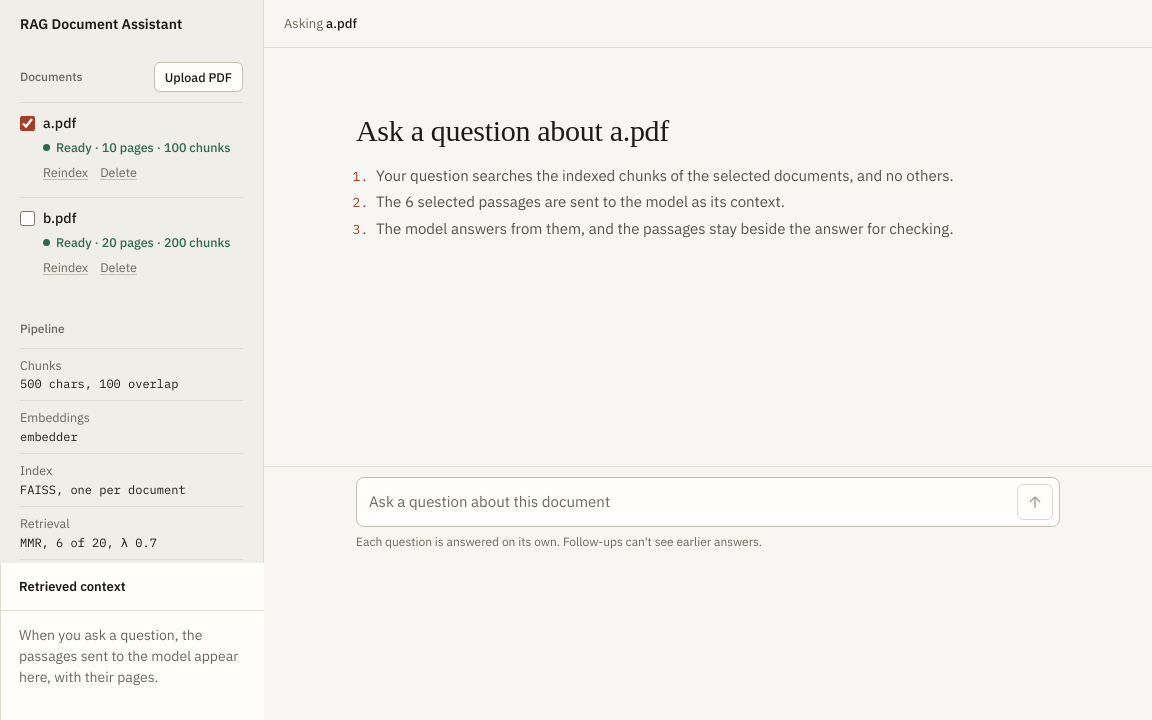
Test case: selection › blocks asking when nothing is selected, instead of searching everything
This screenshot has width=1152, height=720.
Click the checkbox labelled "a.pdf".
click(28, 124)  # box [20,116,35,131]
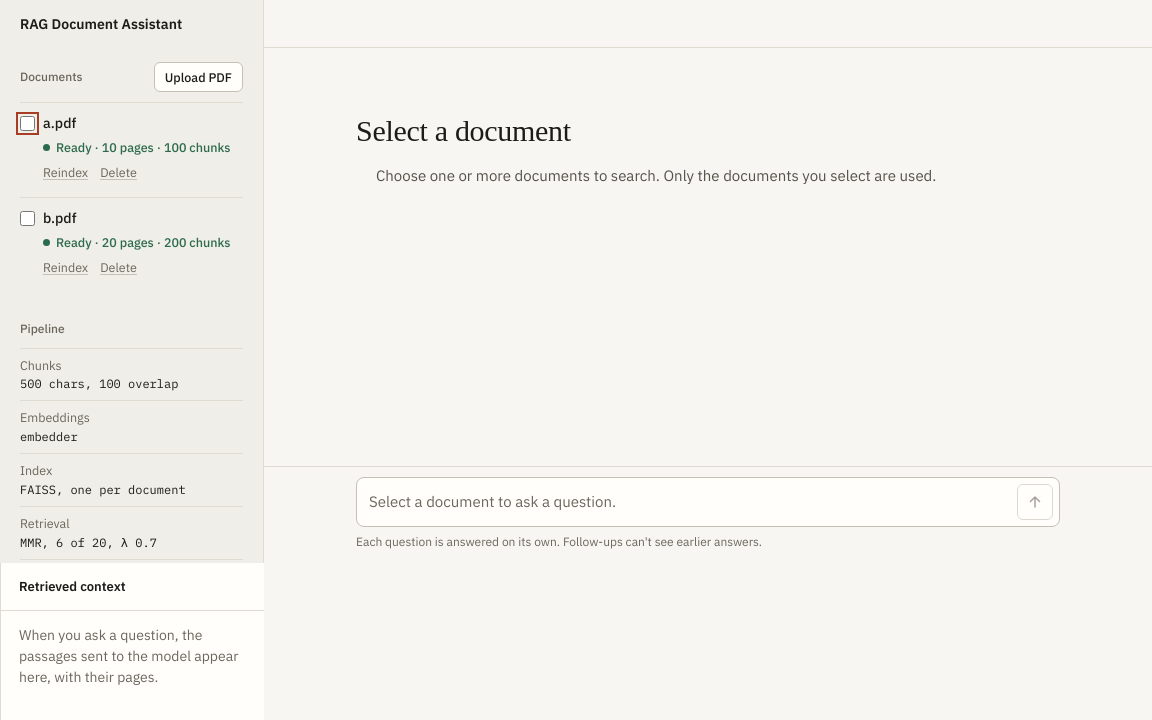
expect the heading "Select a document" is shown: met, box [356,114,571,147]
expect the text box named "Question about the document" is disabled: met, box [369,484,1009,520]
